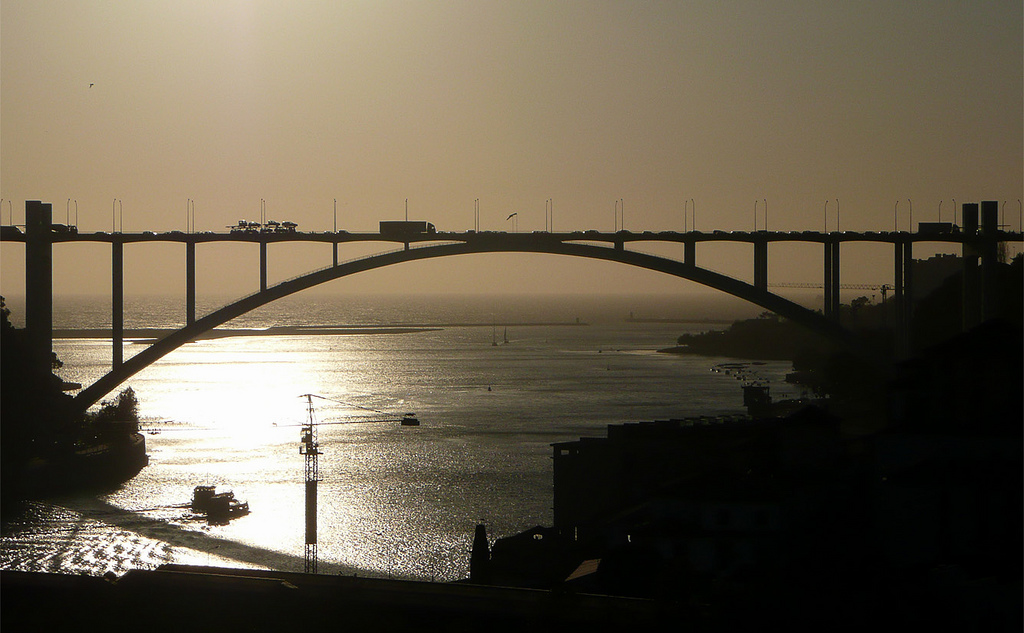arrabida: (0, 199, 1023, 434)
